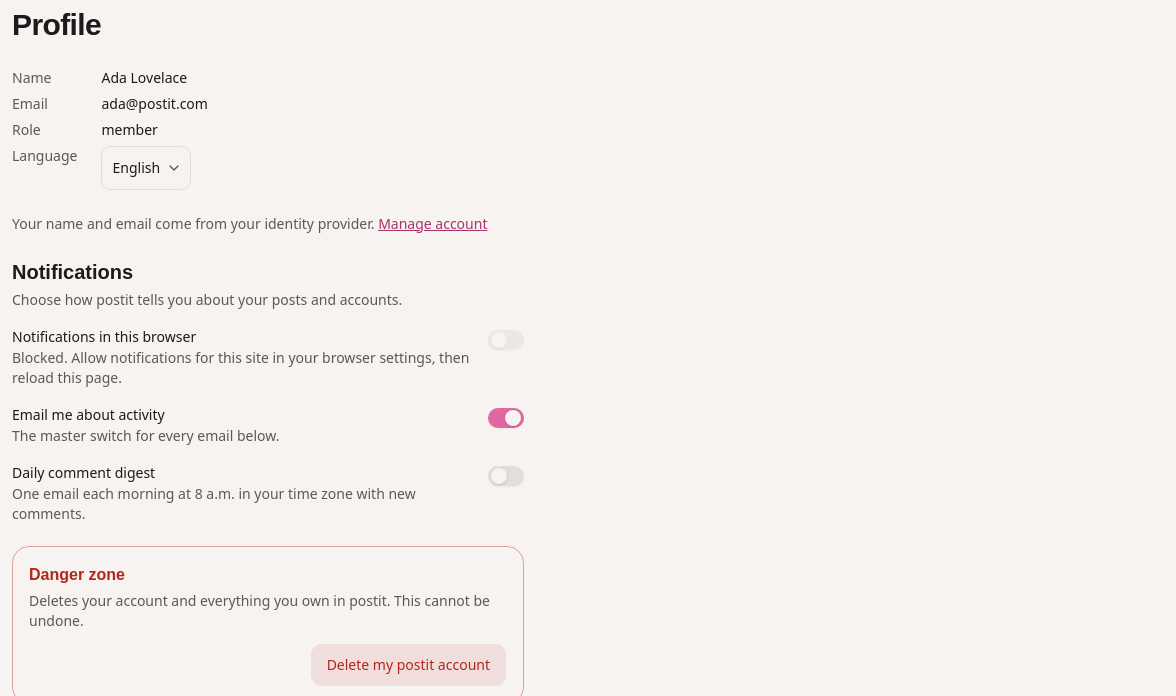
Test: language › changing language keeps the notification settings complete in the cache
The image size is (1176, 696).
expect the text "Ada Lovelace" is shown: met, box [102, 68, 187, 86]
What coordinates should you click on to do the following:
click the dropdown labelled "English"
I would click on:
 (146, 168)
Its box is [102, 146, 191, 190].
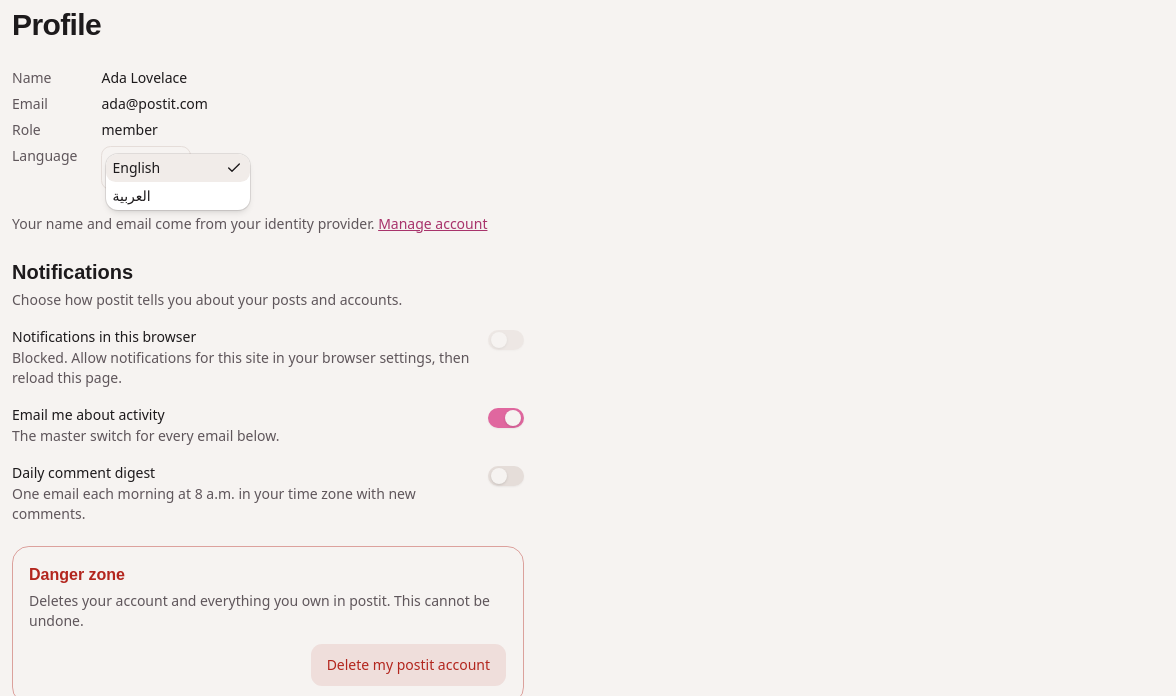
What coordinates should you click on to do the following:
click the option "العربية"
I would click on:
 (132, 195)
Its box is [112, 186, 151, 204].
(page scrolled)
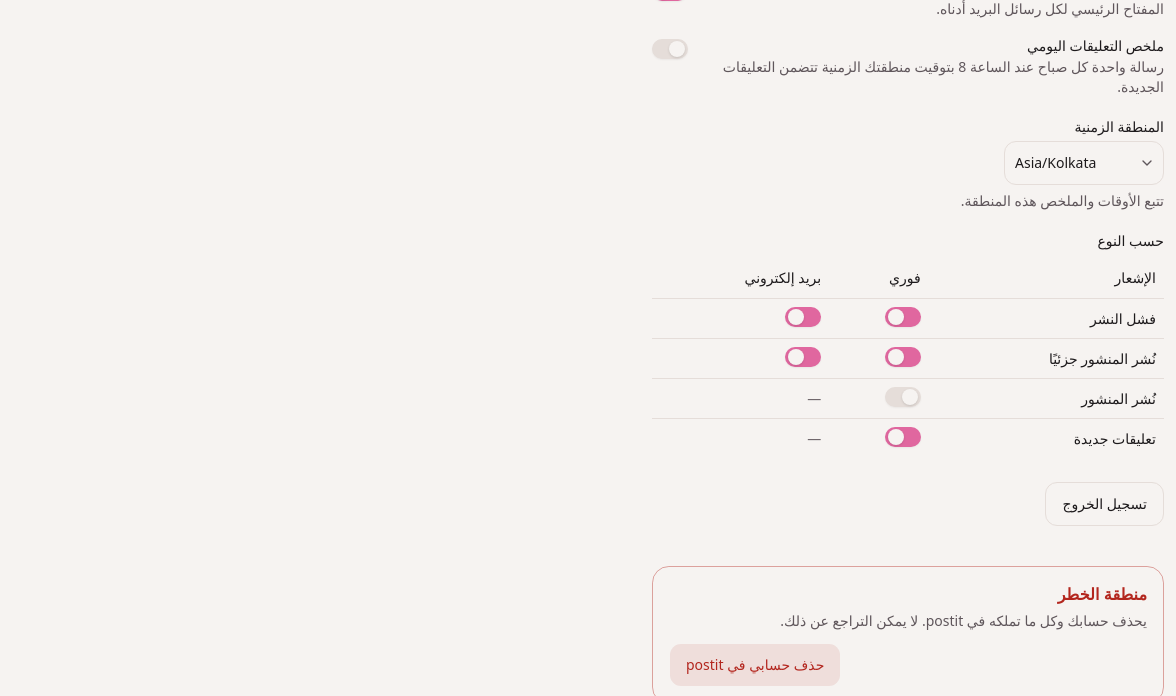
expect the dropdown named "المنطقة الزمنية" reads "Asia/Kolkata": met, box [1004, 140, 1164, 184]
expect the table named "إعدادات الإشعارات حسب النوع" is shown: met, box [652, 258, 1164, 458]
